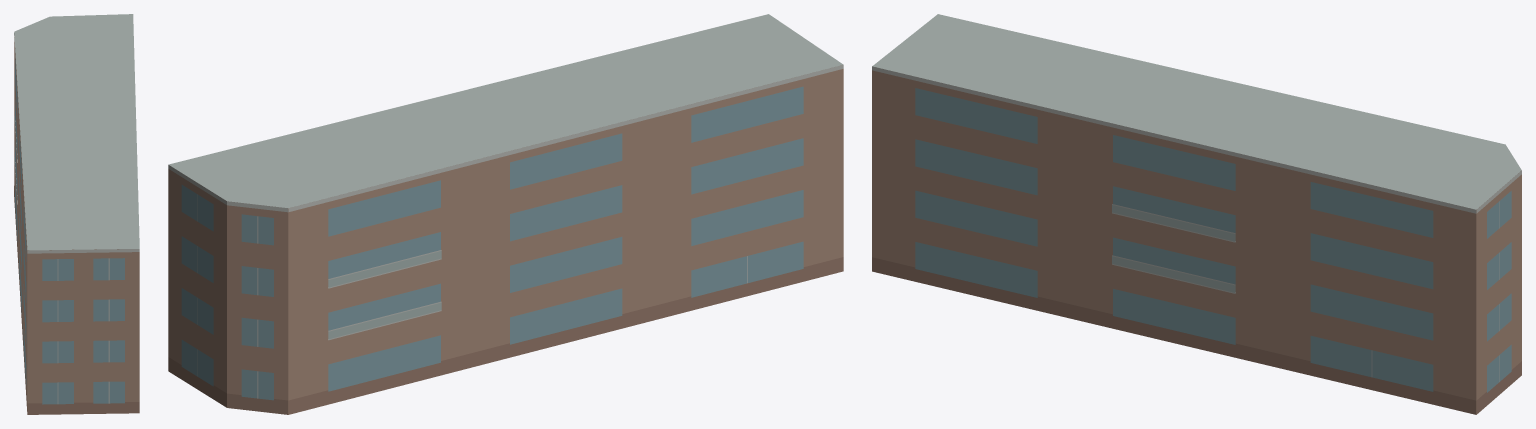
File: survey-upis-32968232.glb
3 renders of one model, left to right at view 1: azimuth 30°, elevation 25°; view 2: azimuth 150°, elevation 25°; view 3: azimuth 270°, elevation 25°, orthographic. The views are drawn at different scales.
Visible parts, largest first — view 1: survey-upis-32968232.tmp; view 2: survey-upis-32968232.tmp; view 3: survey-upis-32968232.tmp.
Part boxes in pixels (x1=…): survey-upis-32968232.tmp: x1=14, y1=14, x2=139, y2=414; survey-upis-32968232.tmp: x1=168, y1=14, x2=843, y2=414; survey-upis-32968232.tmp: x1=872, y1=14, x2=1521, y2=414.
Bounding box in the file's own units: 25.38 × 12.4 × 35.6.
